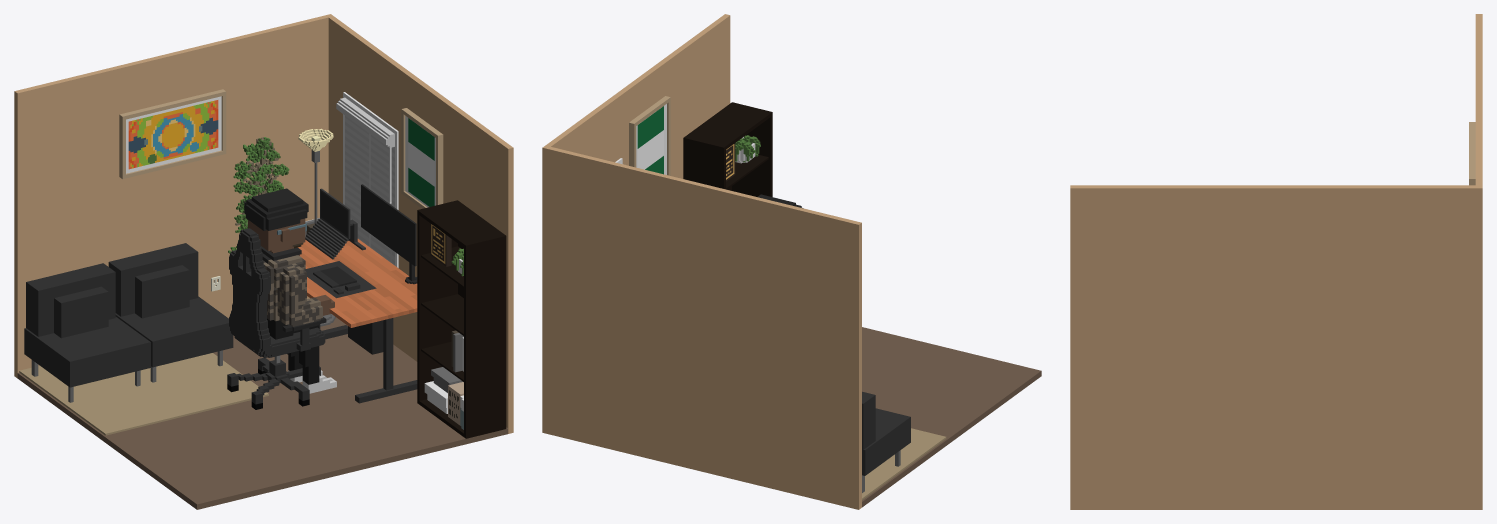
Rendered from withoutclothingrack.glb.
3 views of the same model, side by side, from view 1: azimuth 30°, elevation 25°; view 2: azimuth 150°, elevation 25°; view 3: azimuth 270°, elevation 25° (orthographic). The views are drawn at different scales.
Visible parts, largest first — view 1: wo clothing rack.001; view 2: wo clothing rack.001; view 3: wo clothing rack.001.
Part boxes in pixels (x1,y1,x2,y2): wo clothing rack.001: [14, 14, 513, 509]; wo clothing rack.001: [542, 14, 1041, 509]; wo clothing rack.001: [1070, 14, 1482, 509].
Size of the model in its own units: 18 by 15.5 by 18.
1 material, 1 textured.
